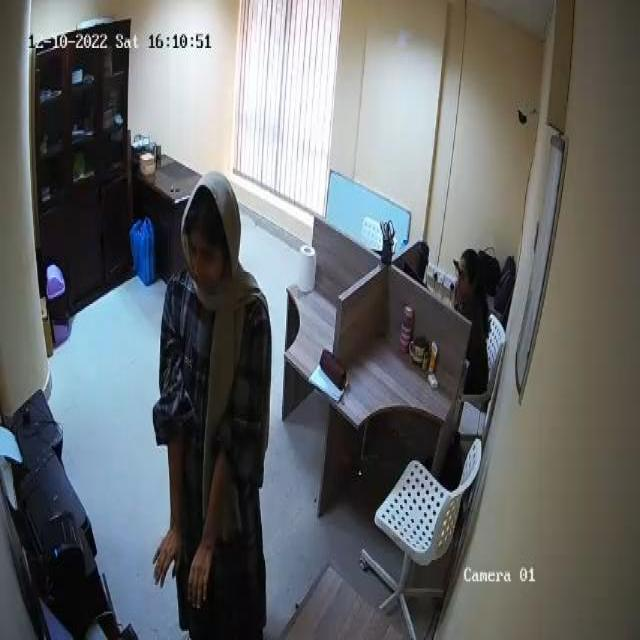bare_hand: (187, 523, 211, 613), (152, 517, 181, 590)
